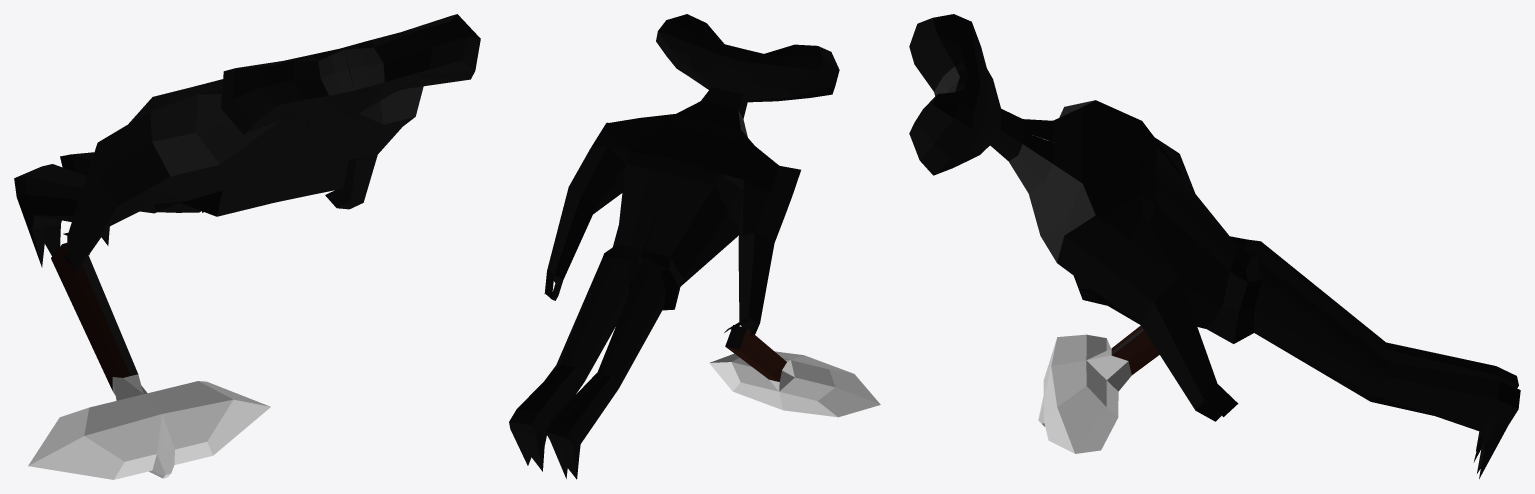
File: Giant1d.obj
3 renders of one model, left to right at view 1: azimuth 30°, elevation 25°; view 2: azimuth 150°, elevation 25°; view 3: azimuth 270°, elevation 25°, orthographic. The views are drawn at different scales.
Parts seen in each view (by area): view 1: Cube; view 2: Cube; view 3: Cube.
Part boxes in pixels (x1,y1,x2,y2): Cube: [14, 14, 480, 479]; Cube: [509, 14, 880, 479]; Cube: [909, 14, 1520, 478].
Bounding box in the file's own units: 1.06 × 1.11 × 1.44.
